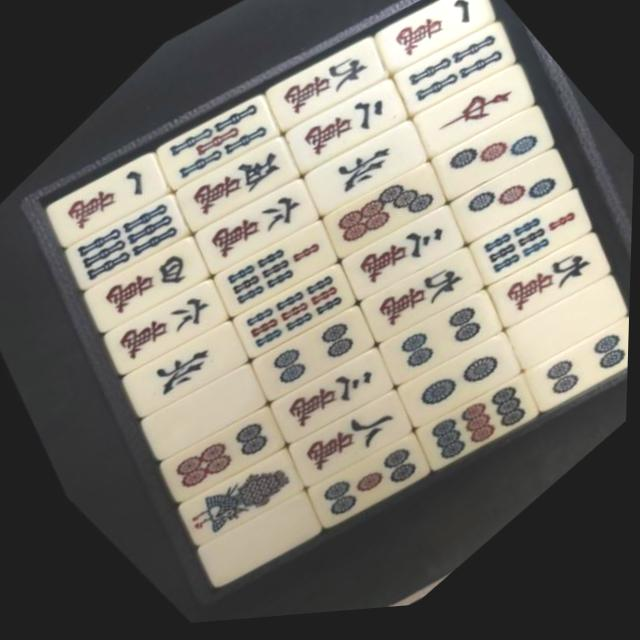hdr: (403, 50, 539, 187)
hdw: (125, 342, 270, 487), (181, 472, 324, 613), (497, 268, 628, 399)
hwn: (107, 298, 250, 441), (290, 103, 431, 244)
sb1: (159, 427, 307, 574)
sb4: (383, 5, 523, 146)
sb5: (145, 71, 287, 214)
sb6: (52, 168, 195, 311)
sb7: (200, 199, 343, 342), (455, 177, 597, 320)
sb9: (218, 242, 361, 385)
sc1: (33, 127, 174, 268), (364, 0, 499, 100)
sc2: (272, 62, 410, 200)
sc3: (326, 190, 466, 331), (257, 331, 396, 470)
sc4: (72, 211, 214, 353)
sc5: (162, 114, 304, 256)
sc6: (180, 155, 324, 300), (90, 255, 232, 397)
sc8: (274, 372, 416, 514)
sc9: (251, 19, 390, 158), (348, 233, 486, 372), (480, 224, 614, 358)
sd2: (384, 320, 522, 459)
sd3: (436, 136, 576, 276), (420, 93, 559, 232)
sd4: (237, 287, 379, 430), (366, 276, 506, 415), (510, 310, 632, 446)
sd5: (293, 418, 433, 558)
sd6: (145, 385, 288, 527)
sd7: (308, 148, 448, 288)
sd9: (400, 361, 542, 504)
